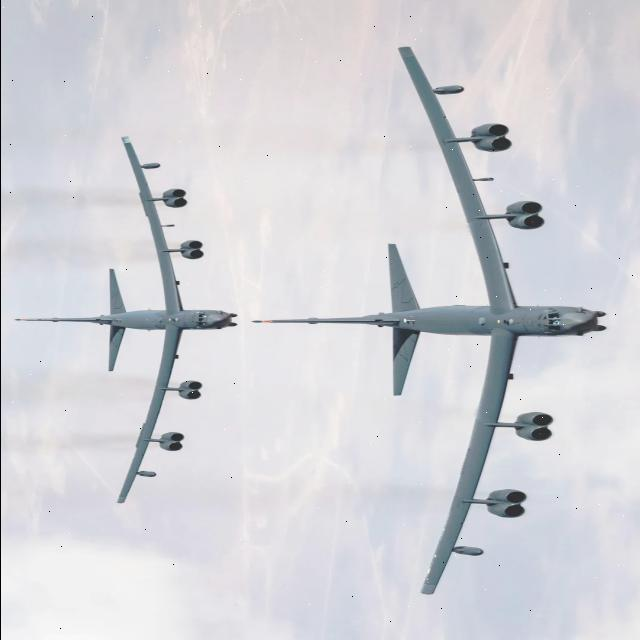B52: (223, 27, 631, 632), (8, 104, 252, 524)
